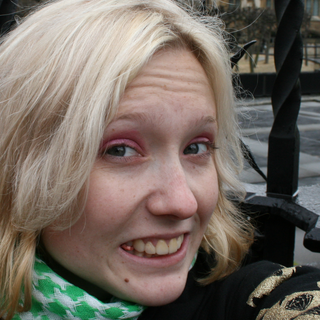eye: (96, 138, 146, 165), (177, 134, 217, 163)
